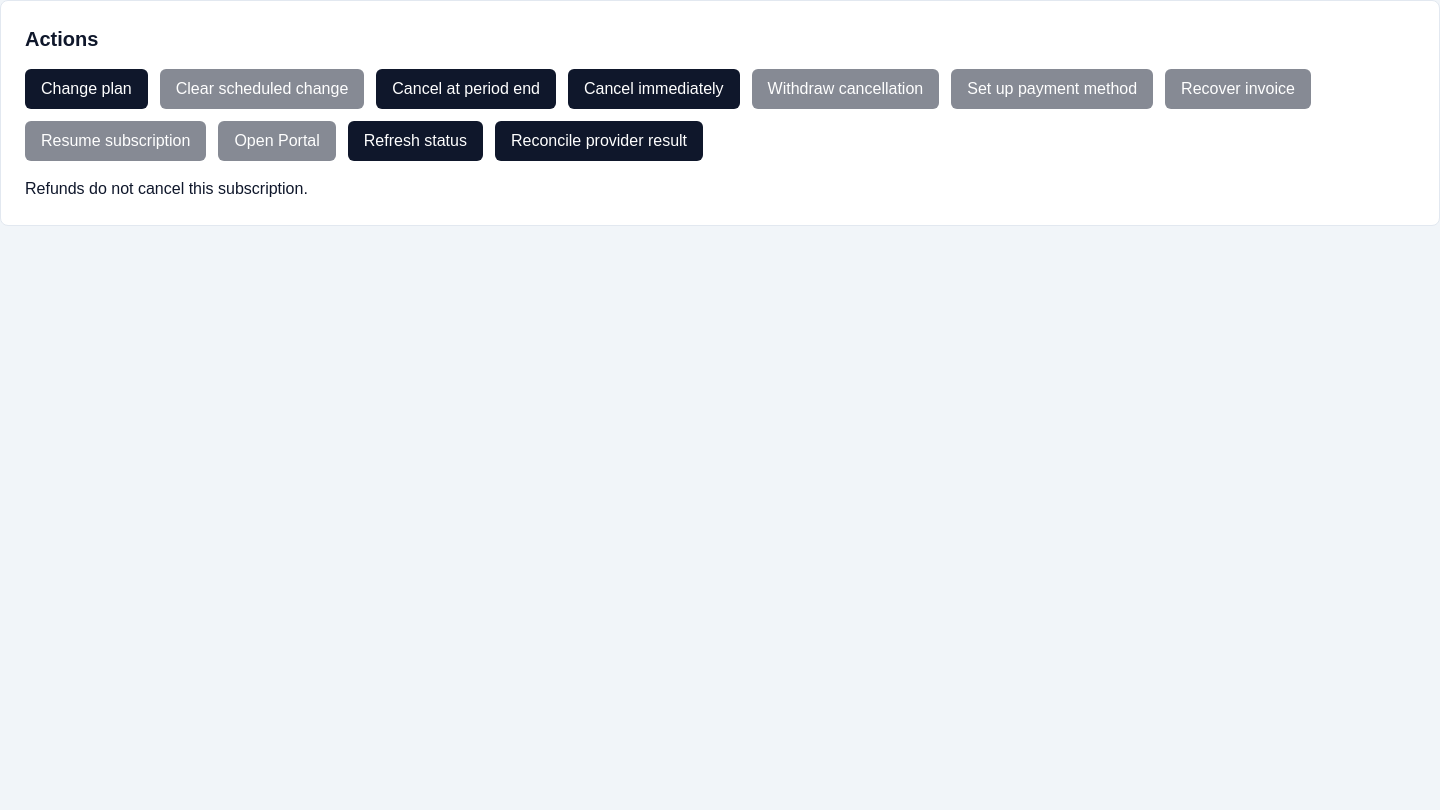
Test: clears a quote when timing changes and submits only a freshly confirmed quote
Click the button "Change plan" at (86, 89), box [25,69,148,109]
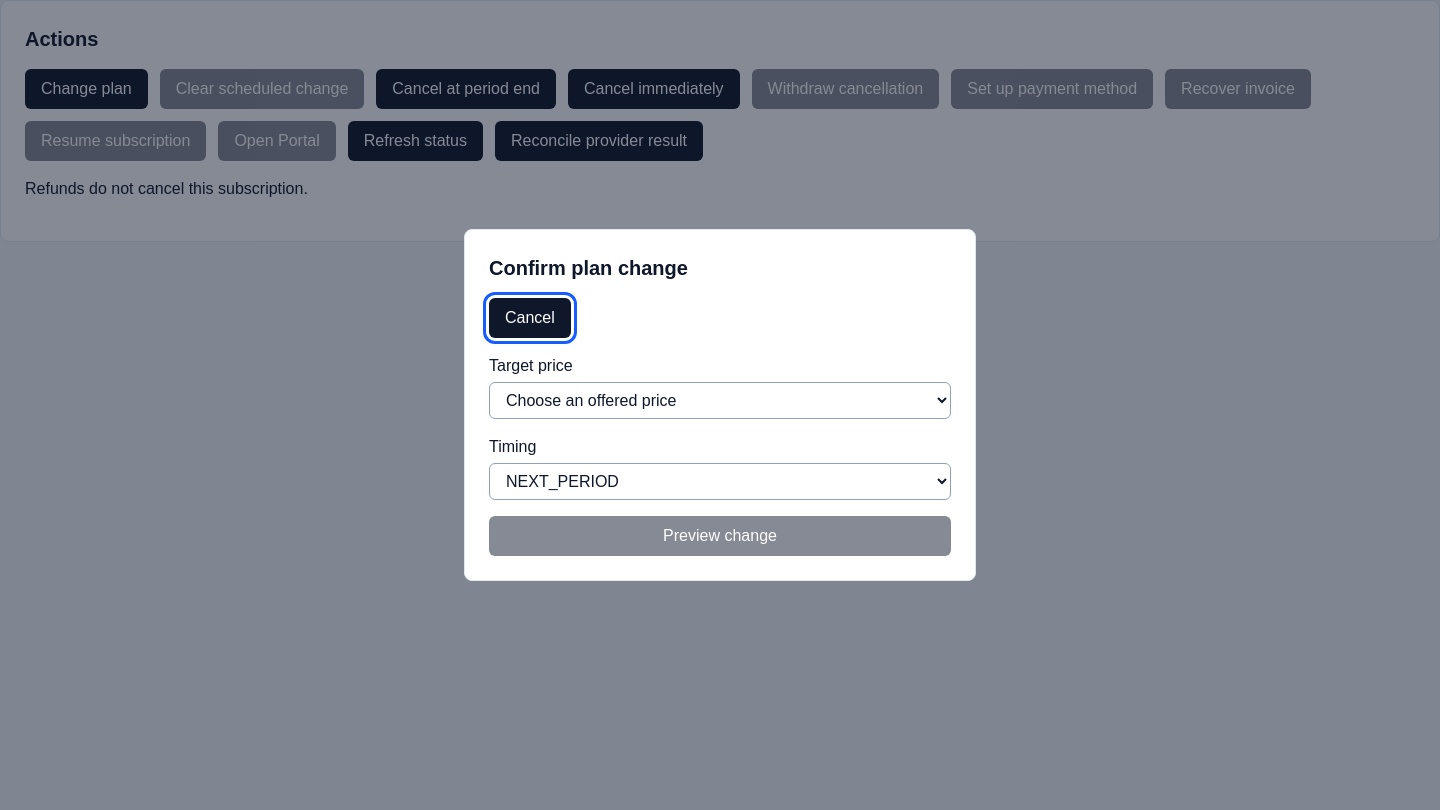
Select "yearly · v1 · 70000000-0000-0000-0000-000000000007 · UPGRADE" in the dropdown labelled "Target price" at (720, 400), box [489,382,951,419]
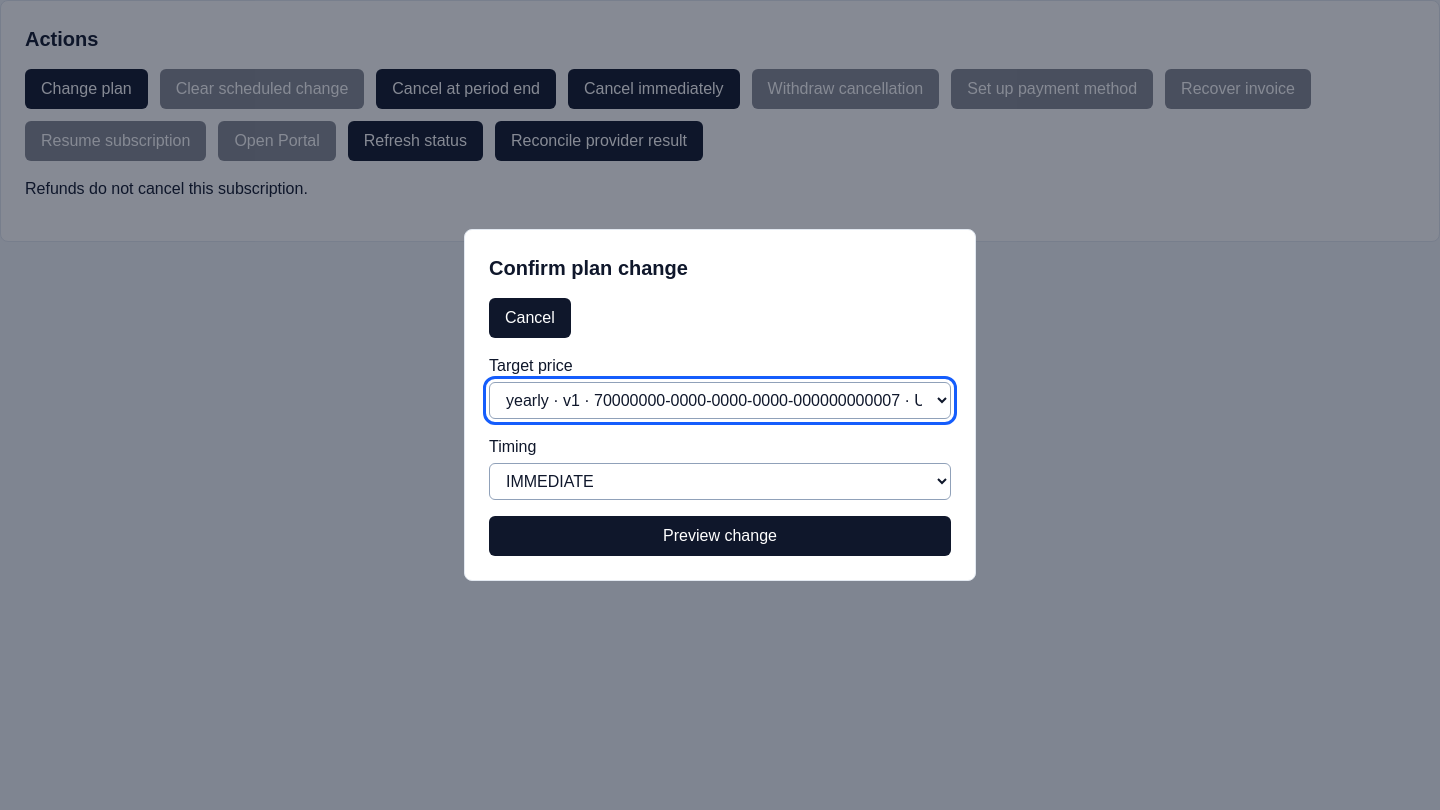
Click the button "Preview change" at (720, 536), box [489,516,951,556]
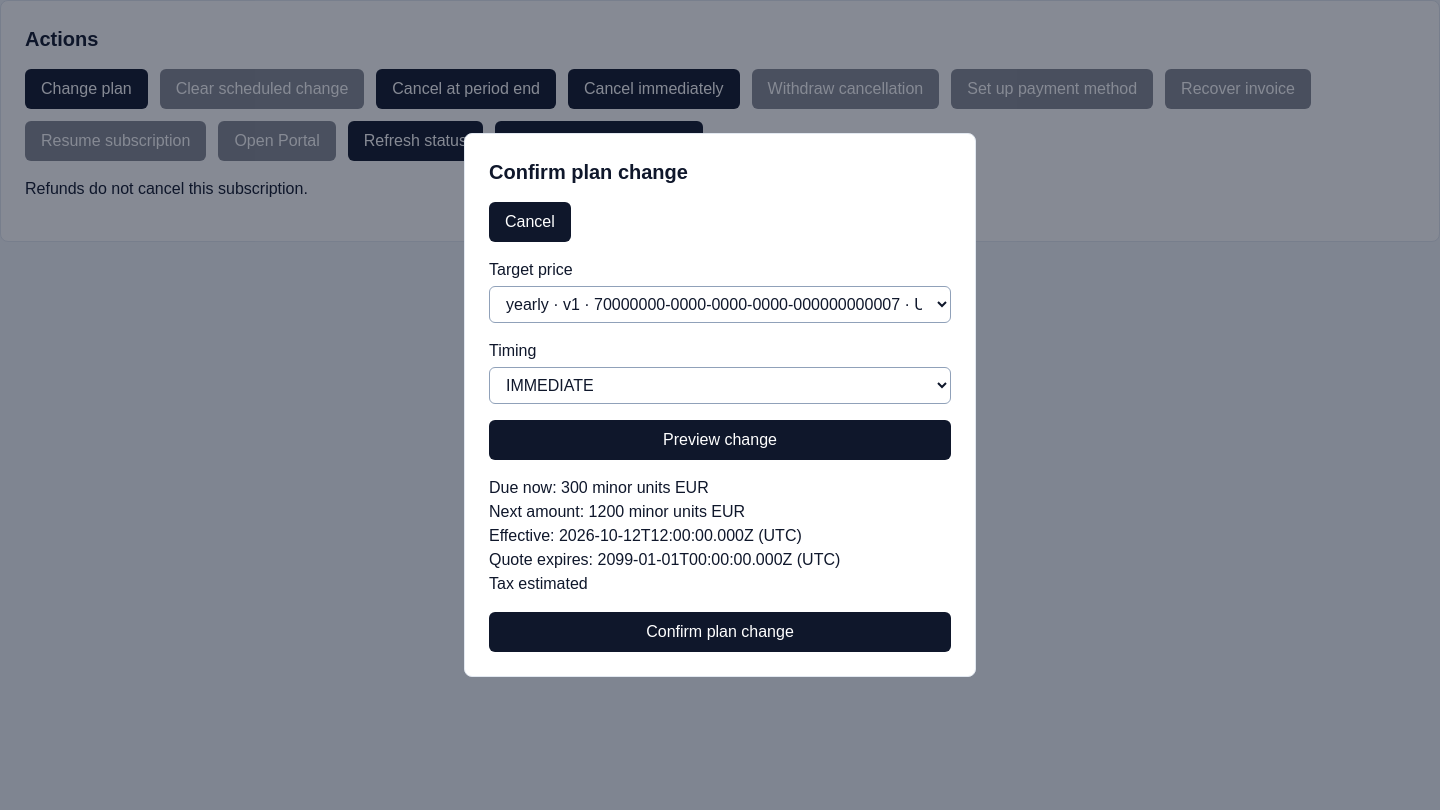
Check: the text "Due now: 300 minor units EUR" is shown, box [489,479,709,496]
Select "NEXT_PERIOD" in the dropdown labelled "Timing" at (720, 386), box [489,367,951,404]
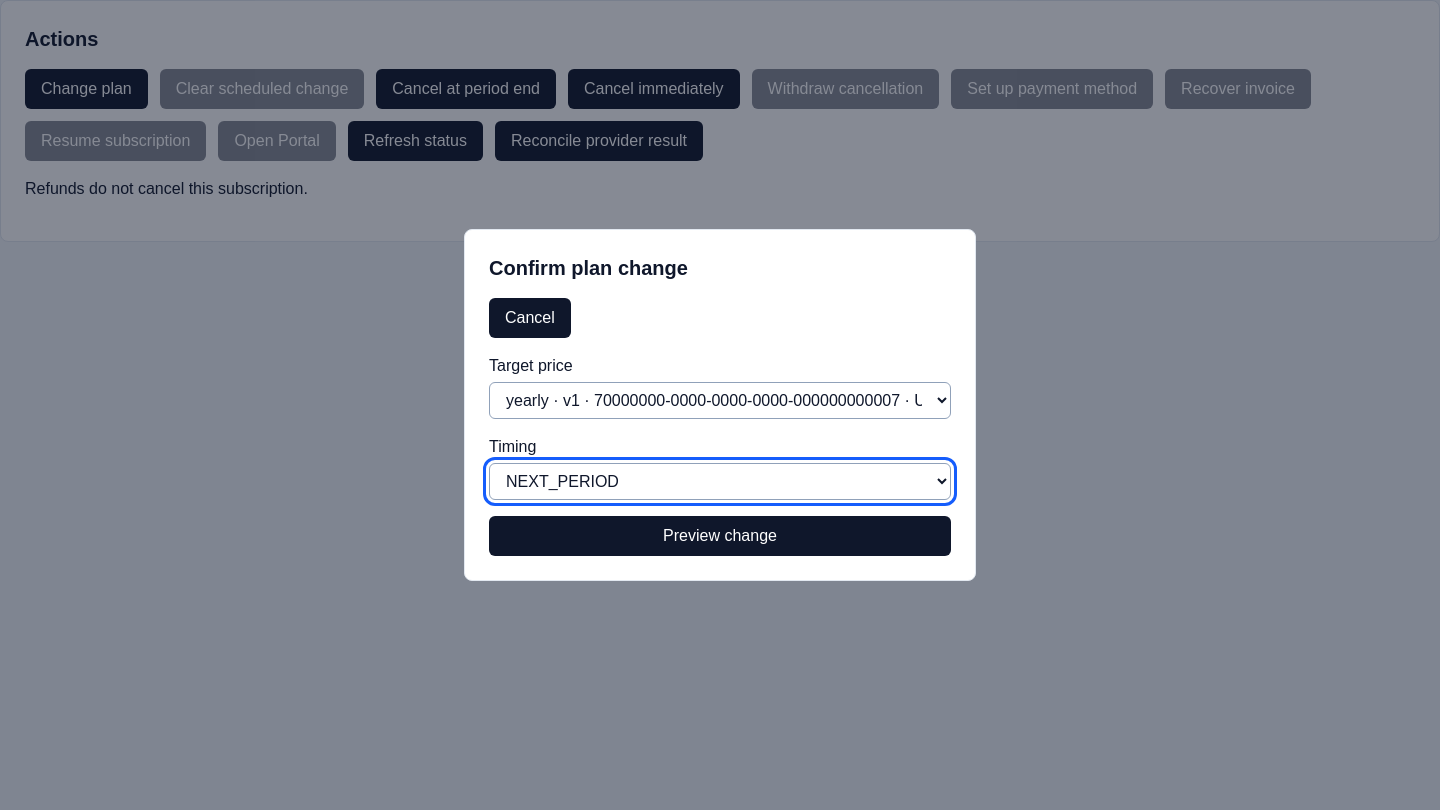
Click the button "Preview change" at (720, 536), box [489,516,951,556]
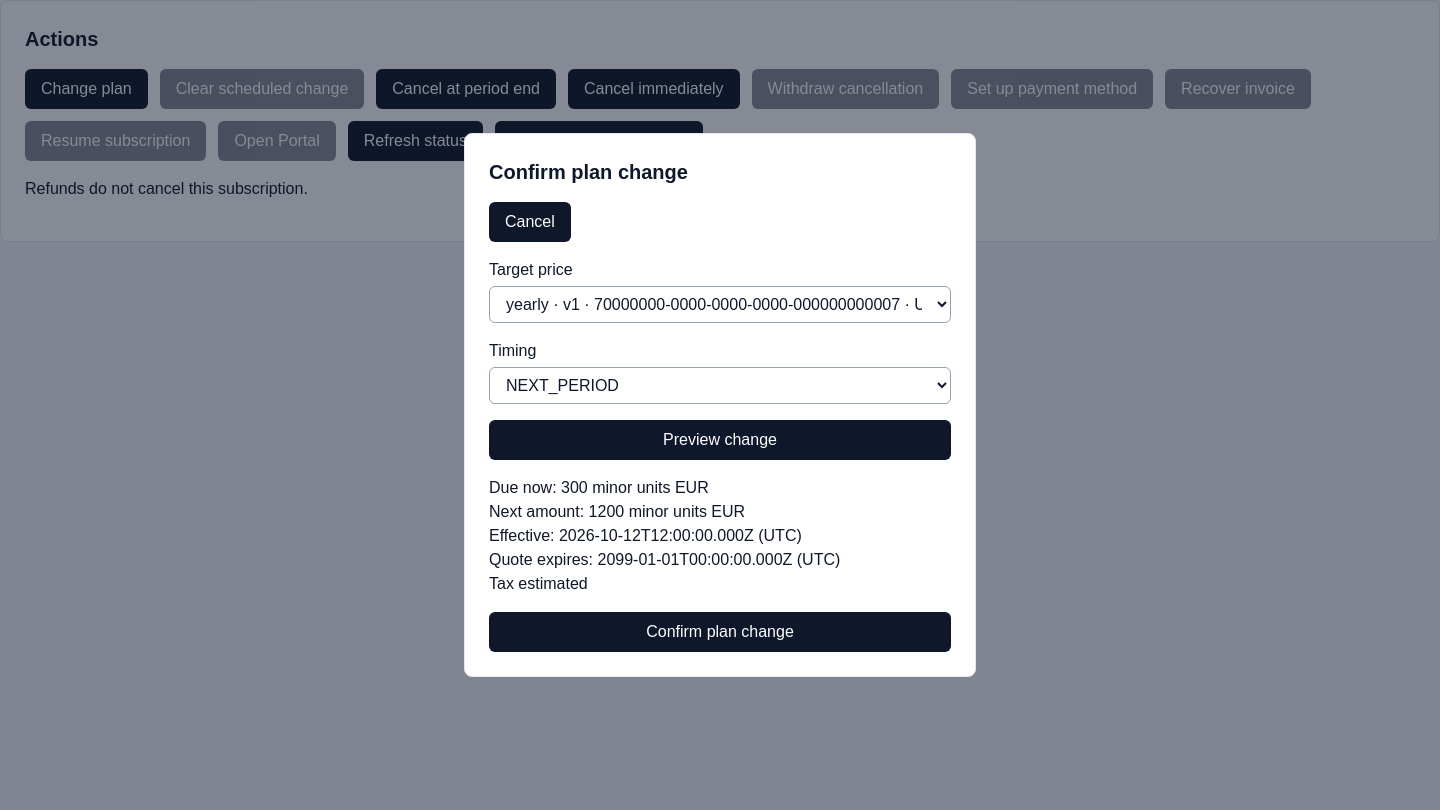
Click the button "Confirm plan change" at (720, 632), box [489,612,951,652]
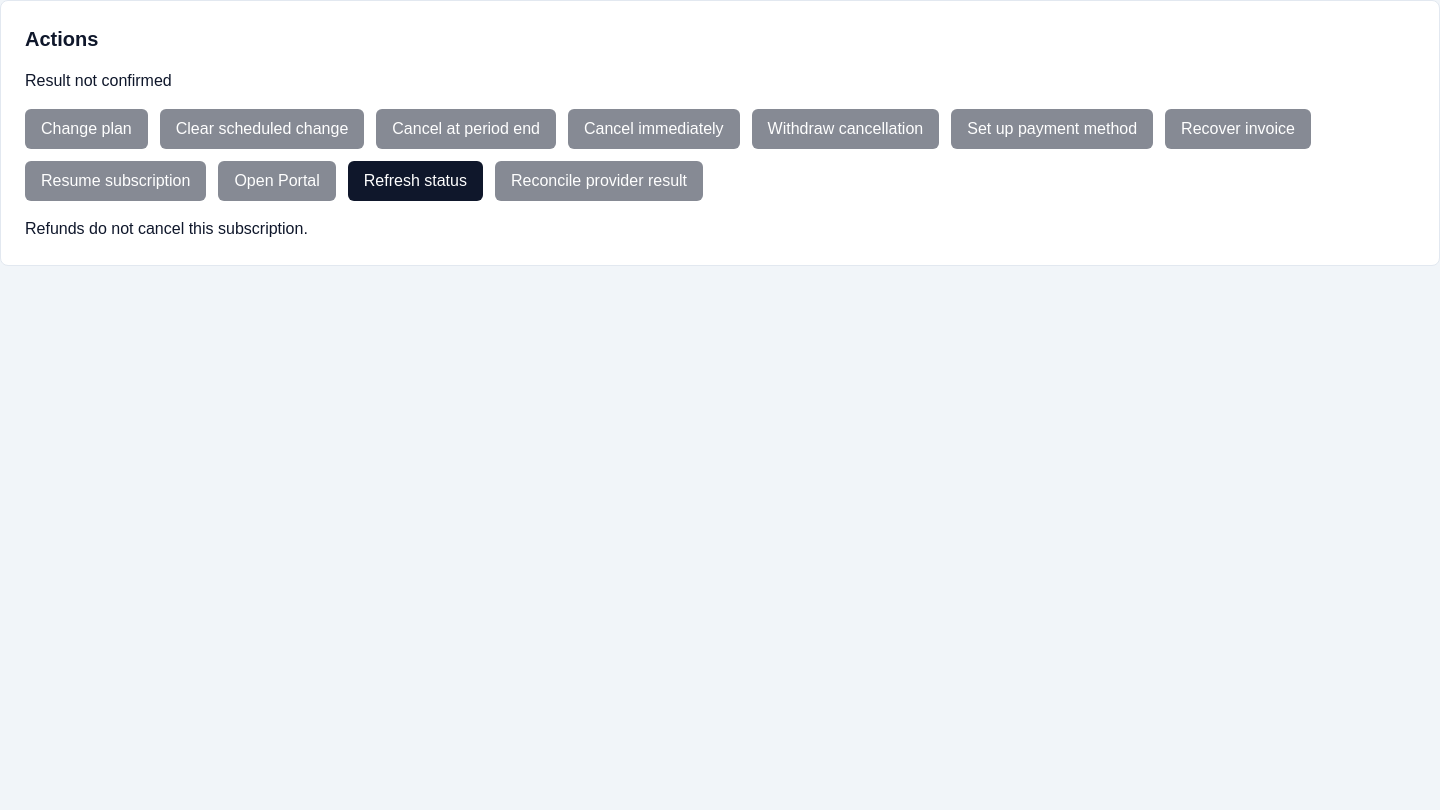
Check: the text "Result not confirmed" is shown, box [25,72,172,89]
